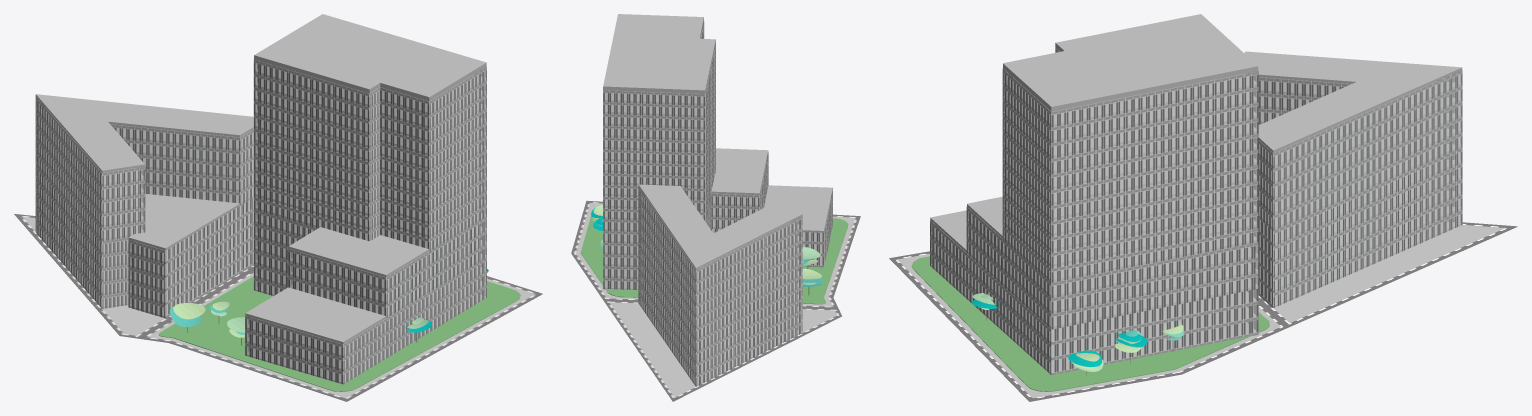
The model's file is sol3.gltf.
3 views of the same model, side by side, from view 1: azimuth 30°, elevation 25°; view 2: azimuth 150°, elevation 25°; view 3: azimuth 270°, elevation 25° (orthographic). The views are drawn at different scales.
Visible parts, largest first — view 1: Mesh_7, Mesh_14, Mesh_12, Mesh_6, Mesh_13, Mesh_3, Mesh_8, Mesh_11, Mesh_2, Mesh_33, Mesh_5, Mesh_9 (+5 smaller); view 2: Mesh_7, Mesh_14, Mesh_12, Mesh_13, Mesh_8, Mesh_6, plot.001, Mesh_11, Mesh_2, Mesh_33, plot, Mesh_9 (+5 smaller); view 3: Mesh_7, Mesh_14, Mesh_6, Mesh_12, Mesh_13, Mesh_3, Mesh_8, Mesh_5, Mesh_2, Mesh_11, Mesh_33, plot.001 (+5 smaller).
Boxes of the visible parts, box(x1,y1,x2,y2) form: Mesh_7: box(253, 59, 486, 251); Mesh_14: box(35, 97, 253, 241); Mesh_12: box(35, 165, 253, 318); Mesh_6: box(254, 57, 486, 250); Mesh_13: box(35, 94, 253, 236); Mesh_3: box(245, 250, 486, 384); Mesh_8: box(254, 14, 486, 99); Mesh_11: box(36, 162, 253, 318); Mesh_2: box(245, 243, 486, 384); Mesh_33: box(159, 276, 520, 391); Mesh_5: box(253, 223, 486, 317); Mesh_9: box(256, 200, 474, 277); Mesh_7: box(603, 21, 715, 221); Mesh_14: box(638, 186, 802, 328); Mesh_12: box(638, 245, 802, 386); Mesh_13: box(638, 184, 802, 323); Mesh_8: box(603, 14, 715, 91); Mesh_6: box(603, 19, 715, 221); plot.001: box(603, 300, 841, 401); Mesh_11: box(639, 244, 802, 386); Mesh_2: box(605, 185, 832, 289); Mesh_33: box(580, 215, 848, 304); plot: box(571, 200, 860, 308); Mesh_9: box(711, 148, 768, 195); Mesh_7: box(1002, 48, 1258, 282); Mesh_14: box(1258, 70, 1462, 230); Mesh_6: box(1003, 45, 1258, 282); Mesh_12: box(1258, 148, 1462, 307); Mesh_13: box(1244, 51, 1462, 226); Mesh_3: box(930, 220, 1258, 374); Mesh_8: box(1003, 14, 1258, 109); Mesh_5: box(966, 222, 1258, 329); Mesh_2: box(930, 210, 1257, 374); Mesh_11: box(1259, 144, 1460, 307); Mesh_33: box(911, 256, 1269, 391); plot.001: box(1258, 222, 1517, 327).
Size of the model in its own units: 83 by 52.95 by 110.
13 materials, 8 textured.
